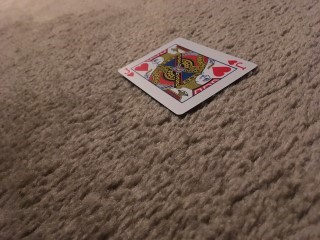JackOfHearts: (117, 37, 257, 116)
